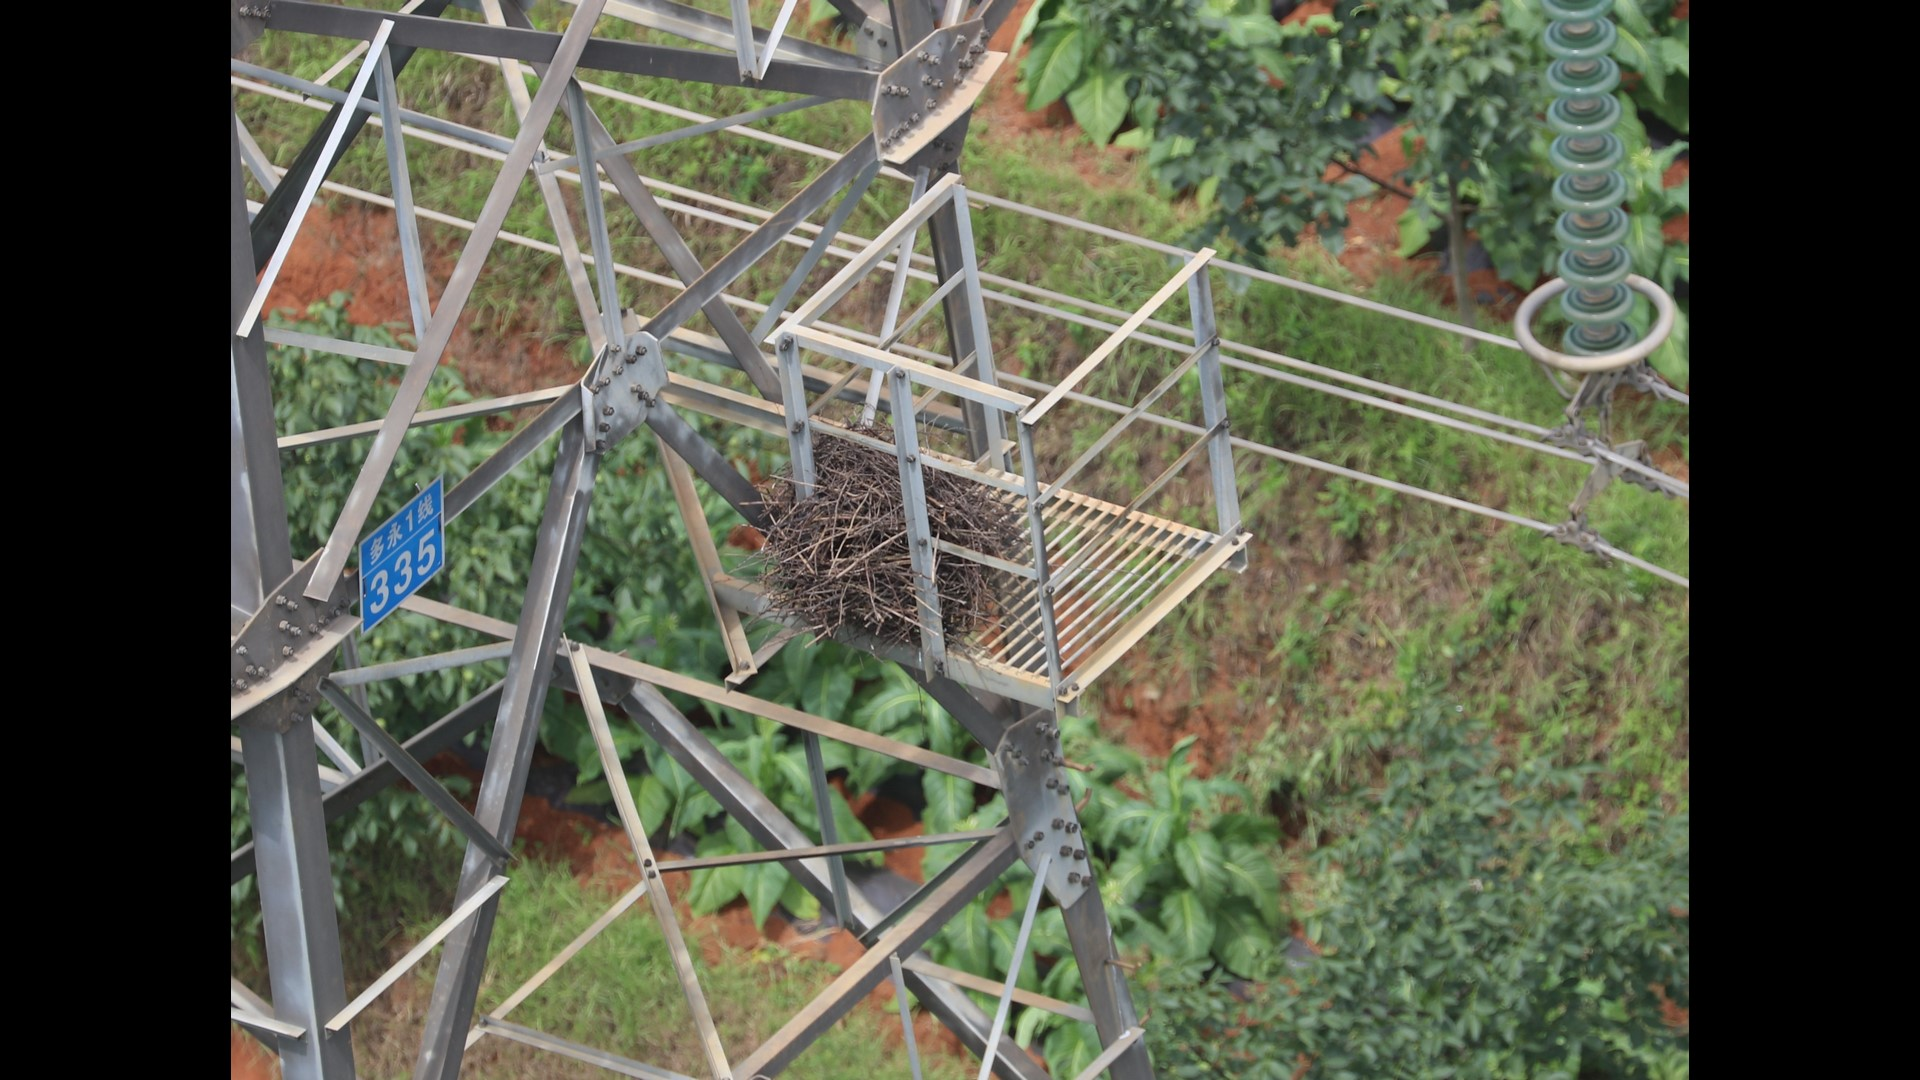niaowo: (738, 407, 1022, 650)
